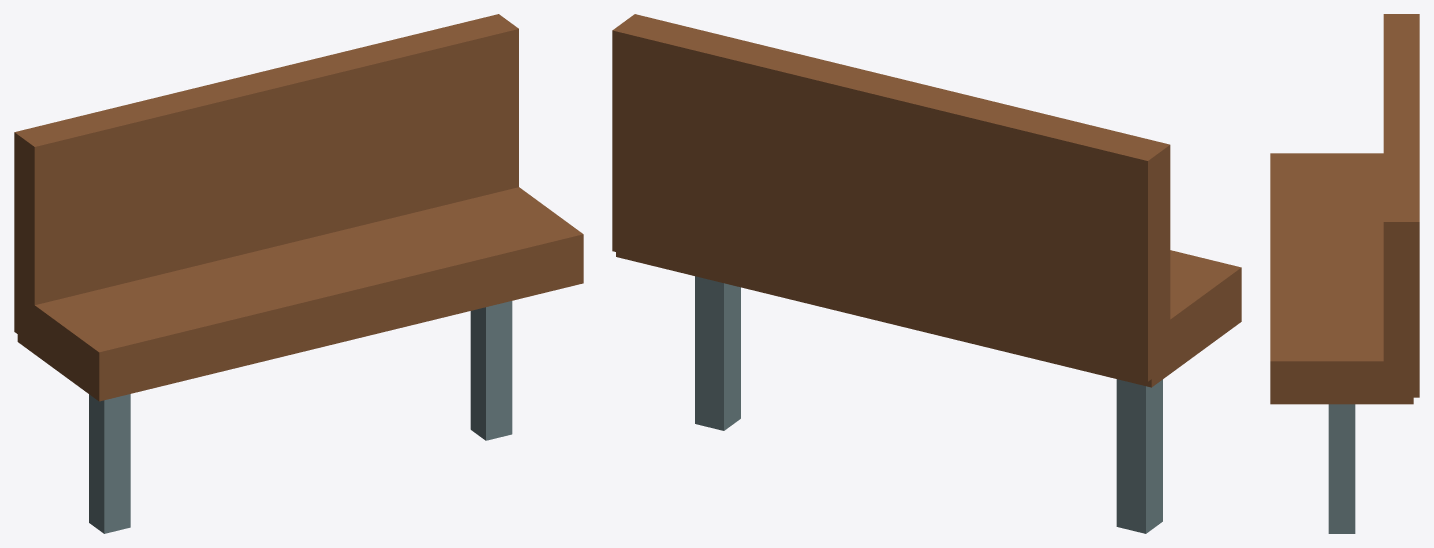
Rendered from prop_bench.glb.
The picture shows the model from 3 angles, left to right: view 1: azimuth 30°, elevation 25°; view 2: azimuth 150°, elevation 25°; view 3: azimuth 270°, elevation 25°; orthographic projection. The views are drawn at different scales.
Parts seen in each view (by area): view 1: rough, metallic; view 2: rough, metallic; view 3: rough, metallic.
Boxes of the visible parts, x1,y1,x2,y2 form: rough: (14, 14, 583, 401); metallic: (89, 301, 512, 533); rough: (612, 14, 1241, 387); metallic: (695, 276, 1162, 533); rough: (1270, 14, 1419, 404); metallic: (1328, 404, 1355, 533).
Size of the model in its own units: 1.65 by 1.22 by 0.5.
